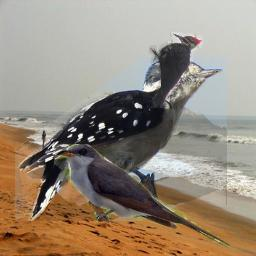Cuckoo: (54, 144, 230, 250)
Woodpecker: (15, 56, 227, 221), (149, 32, 203, 108)
